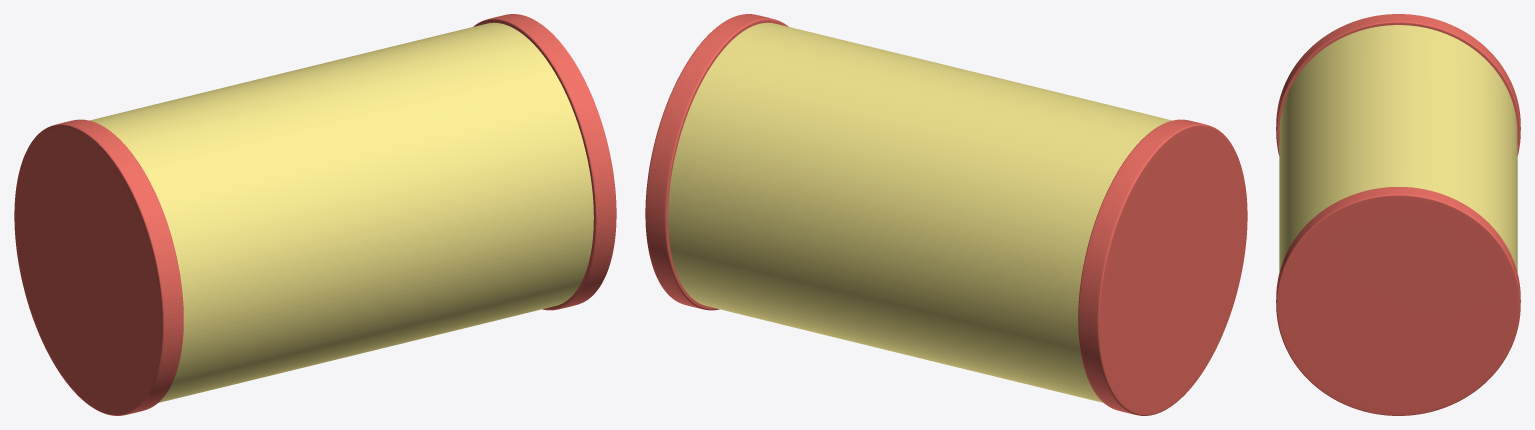
Rendered from Toy_TunnelTube_Hi_2127.fbx.
3 renders of one model, left to right at view 1: azimuth 30°, elevation 25°; view 2: azimuth 150°, elevation 25°; view 3: azimuth 270°, elevation 25°, orthographic. The views are drawn at different scales.
Visible parts, largest first — view 1: Cylinder, Cylinder.001, Cylinder.002; view 2: Cylinder, Cylinder.001, Cylinder.002; view 3: Cylinder.002, Cylinder, Cylinder.001.
Part boxes in pixels (box(x1,y1,x2,y2)): Cylinder: box(90, 22, 593, 402); Cylinder.001: box(14, 119, 183, 415); Cylinder.002: box(473, 14, 616, 310); Cylinder: box(668, 22, 1171, 402); Cylinder.001: box(1078, 119, 1247, 415); Cylinder.002: box(645, 14, 788, 310); Cylinder.002: box(1276, 187, 1520, 415); Cylinder: box(1279, 25, 1517, 272); Cylinder.001: box(1276, 14, 1520, 155).
Bounding box in the file's own units: 2.52 × 1.44 × 1.44.
